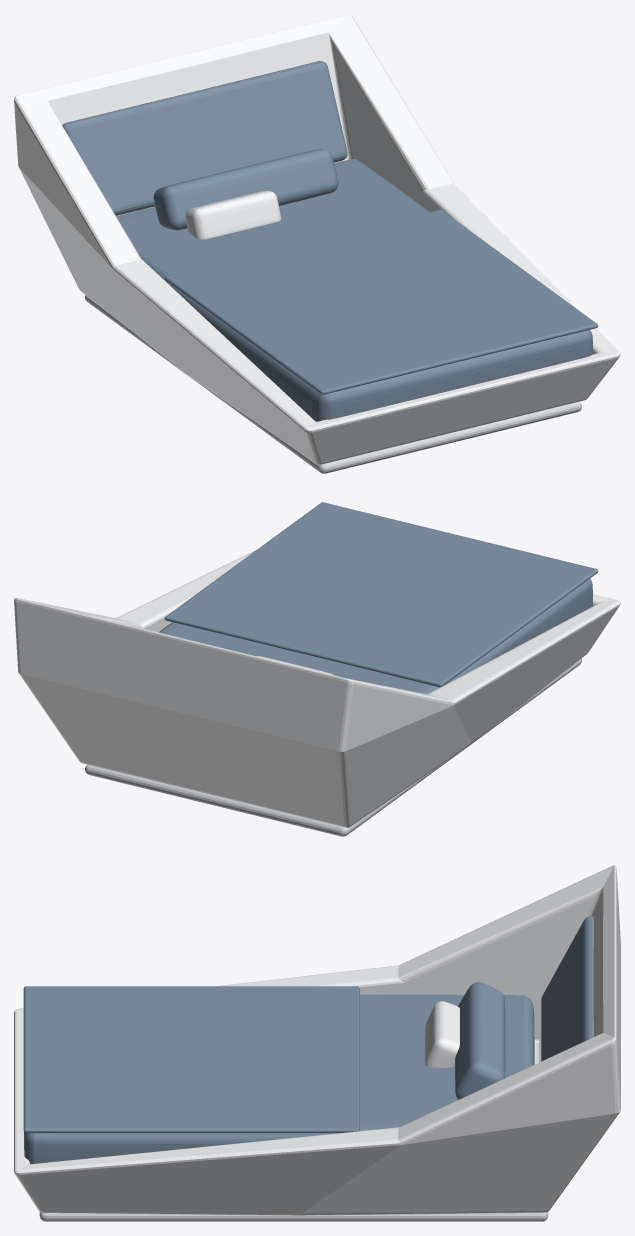
File: prism_geo_bed.glb
3 renders of one model, top to bottom at view 1: azimuth 30°, elevation 25°; view 2: azimuth 150°, elevation 25°; view 3: azimuth 270°, elevation 25°, orthographic. The views are drawn at different scales.
Visible parts, largest first — view 1: White_Shell, Duvet, Headboard_Cushion, Mattress, Pillow_Lumbar, Plinth, Pillow_White; view 2: White_Shell, Duvet, Mattress, Plinth; view 3: White_Shell, Duvet, Mattress, Headboard_Cushion, Pillow_Lumbar, Plinth, Pillow_White.
Part boxes in pixels (x1,y1,x2,y2): White_Shell: [14, 14, 620, 464]; Duvet: [164, 209, 598, 394]; Headboard_Cushion: [62, 61, 347, 215]; Mattress: [116, 159, 592, 421]; Pillow_Lumbar: [153, 149, 338, 230]; Plinth: [85, 295, 581, 473]; Pillow_White: [186, 191, 281, 239]; White_Shell: [14, 549, 620, 827]; Duvet: [164, 502, 598, 687]; Mattress: [158, 578, 592, 694]; Plinth: [85, 658, 581, 836]; White_Shell: [14, 865, 620, 1215]; Duvet: [23, 986, 359, 1133]; Mattress: [24, 994, 534, 1164]; Headboard_Cushion: [541, 916, 593, 1061]; Pillow_Lumbar: [455, 982, 505, 1099]; Plinth: [39, 1212, 548, 1221]; Pillow_White: [424, 1001, 459, 1067].
Size of the model in its own units: 1.85 by 0.993 by 2.67.
